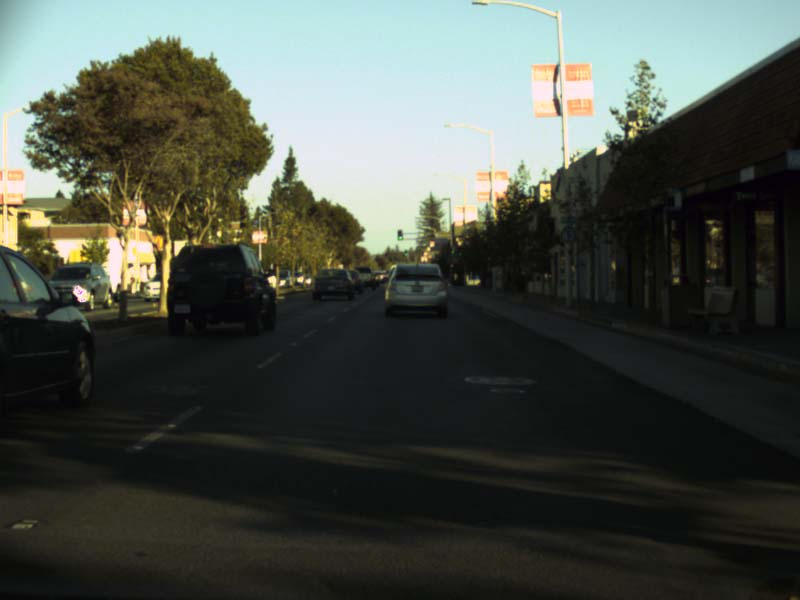Green: (397, 229, 402, 240), (450, 250, 454, 254), (403, 253, 407, 256)
